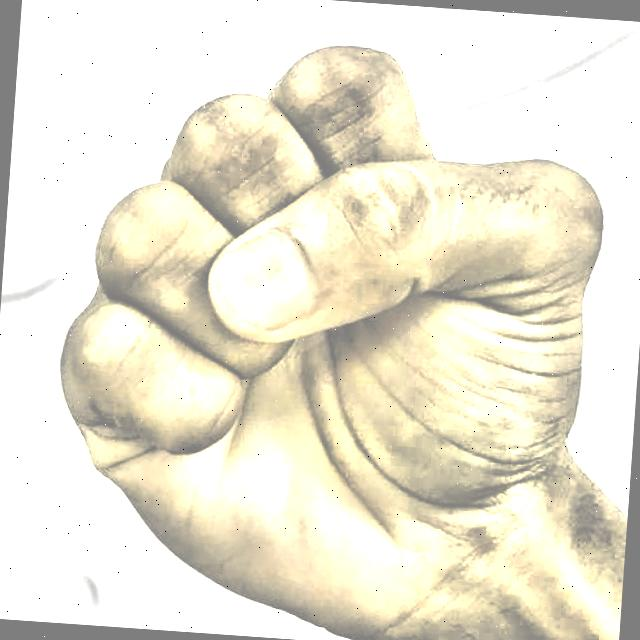Sha: (37, 12, 627, 640)
